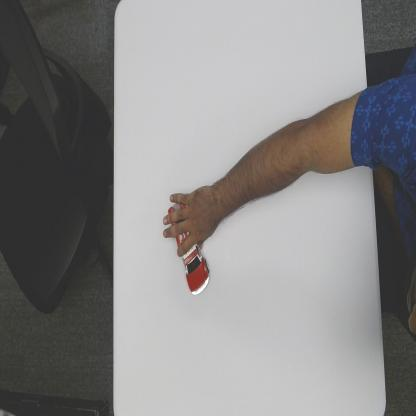Arm: (217, 86, 376, 224)
Firetruck: (164, 196, 214, 298)
Hand: (162, 186, 213, 258)
